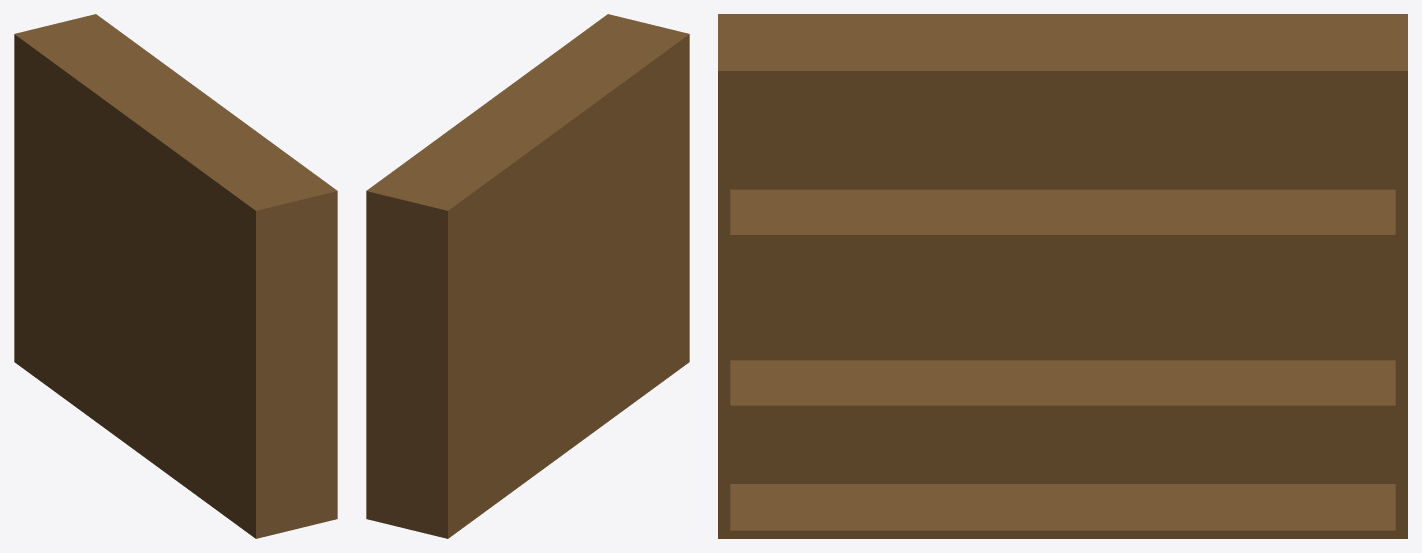
File: small_bookshelf.fbx
3 renders of one model, left to right at view 1: azimuth 30°, elevation 25°; view 2: azimuth 150°, elevation 25°; view 3: azimuth 270°, elevation 25°, orthographic. The views are drawn at different scales.
Parts seen in each view (by area): view 1: Main; view 2: Main; view 3: Main, Shelf2, Shelf1.
Boxes of the visible parts, left/top/right/bottom form: Main: left=14, top=14, right=337, bottom=538; Main: left=366, top=14, right=689, bottom=538; Main: left=718, top=14, right=1407, bottom=538; Shelf2: left=730, top=189, right=1395, bottom=251; Shelf1: left=730, top=360, right=1395, bottom=421.
Size of the model in its own units: 67.9 by 260 by 348.
